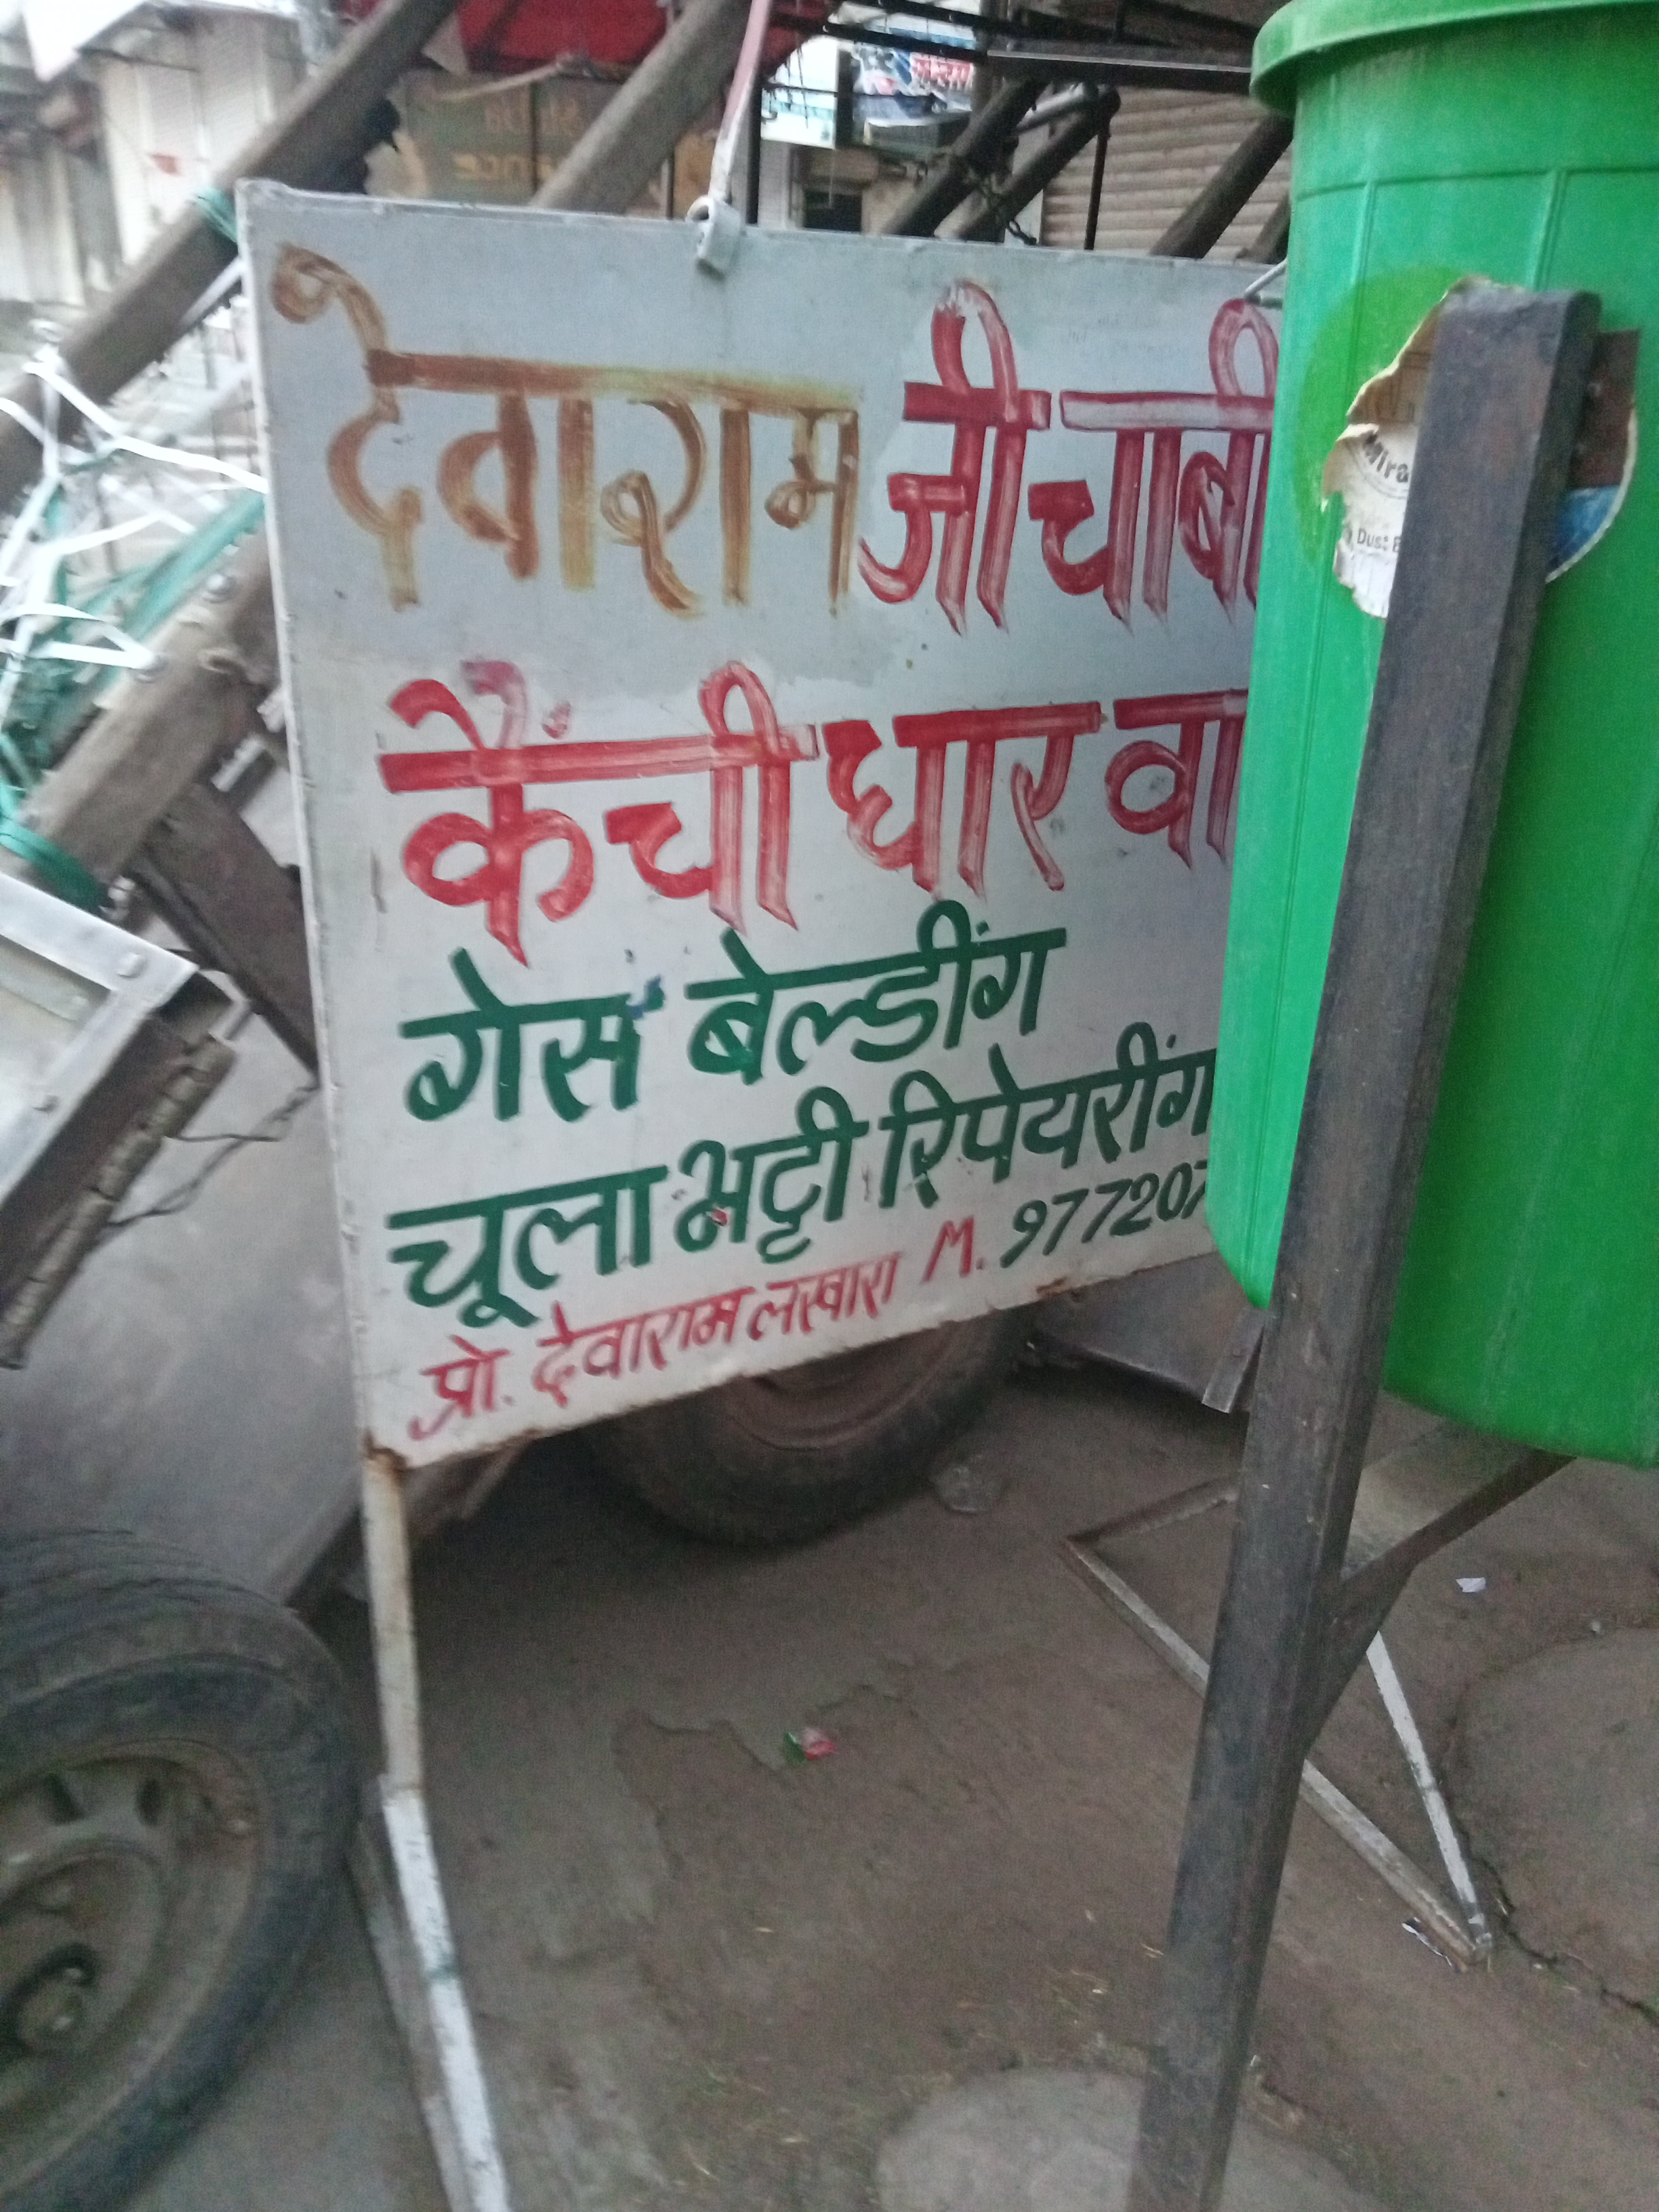text: (234, 125, 1358, 1470)
